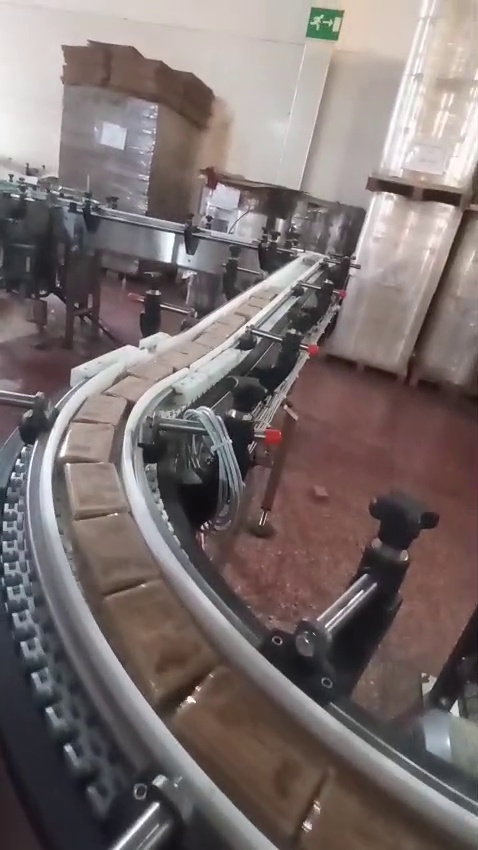savon: (81, 522, 463, 850), (156, 86, 229, 181), (443, 218, 478, 290), (159, 176, 196, 208), (360, 668, 377, 704), (458, 178, 478, 208), (382, 663, 400, 690), (74, 509, 112, 521)
